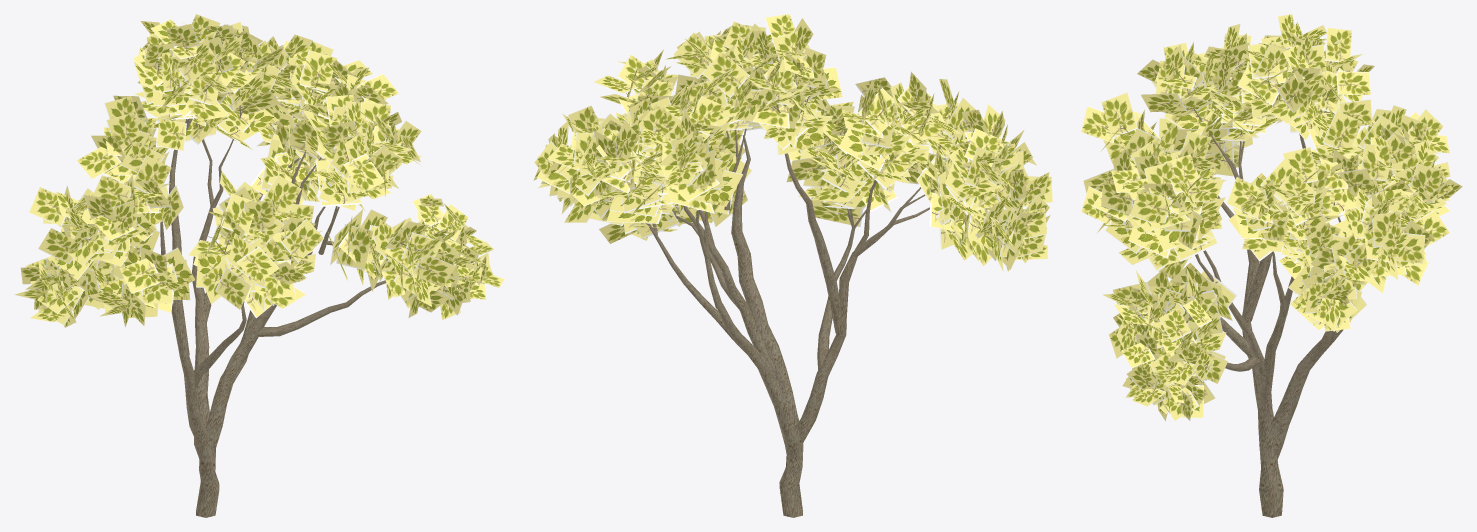
Rendered from Tree_5_2.glb.
3 renders of one model, left to right at view 1: azimuth 30°, elevation 25°; view 2: azimuth 150°, elevation 25°; view 3: azimuth 270°, elevation 25°, orthographic. The views are drawn at different scales.
Parts seen in each view (by area): view 1: Tree_5_V2; view 2: Tree_5_V2; view 3: Tree_5_V2.
Boxes of the visible parts, x1,y1,x2,y2 form: Tree_5_V2: (14, 14, 504, 517); Tree_5_V2: (533, 14, 1052, 517); Tree_5_V2: (1081, 14, 1462, 517).
Bounding box in the file's own units: 3.52 × 3.57 × 2.51.
Materials: 1 (1 with a texture image).
